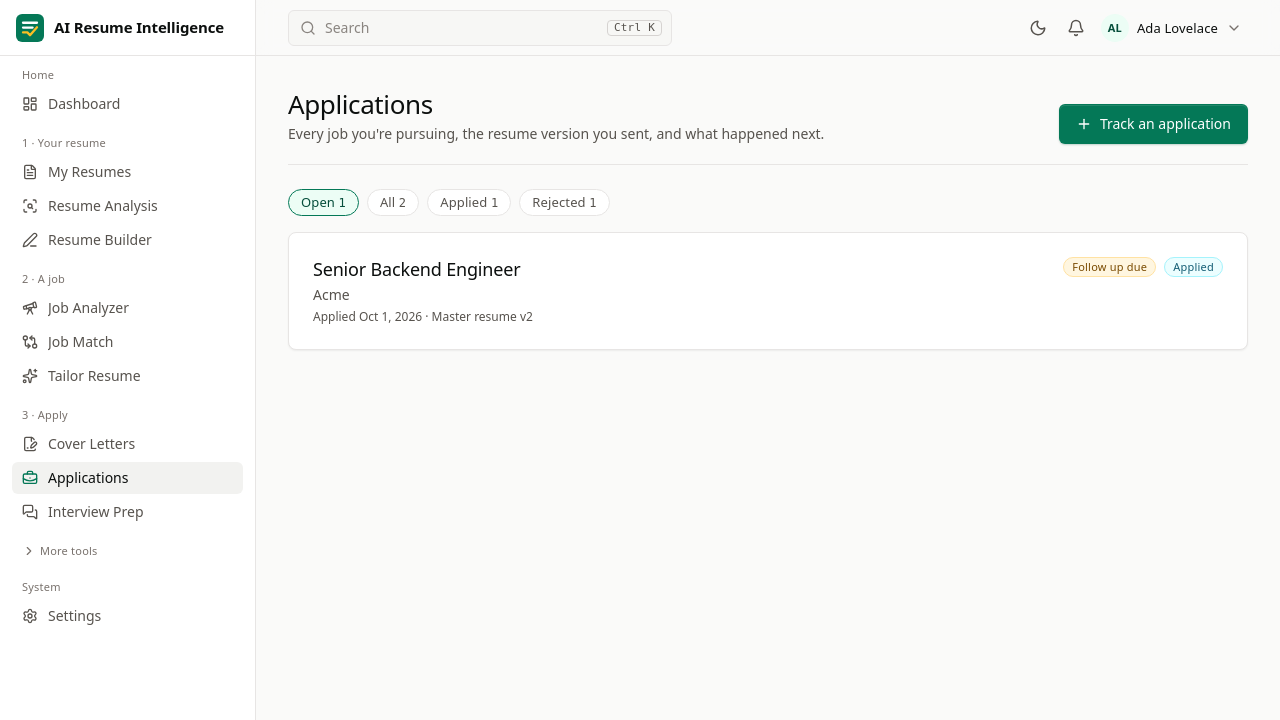
Test: Applications › lists open applications by default and filters by status
This screenshot has width=1280, height=720.
Expected: the text "Follow up due" is shown, top-left (1063, 257), bottom-right (1156, 277)
Expected: the text "Globex" is not shown
Click the button "Rejected 1" at (564, 202), box top-left (519, 189), bottom-right (610, 216)
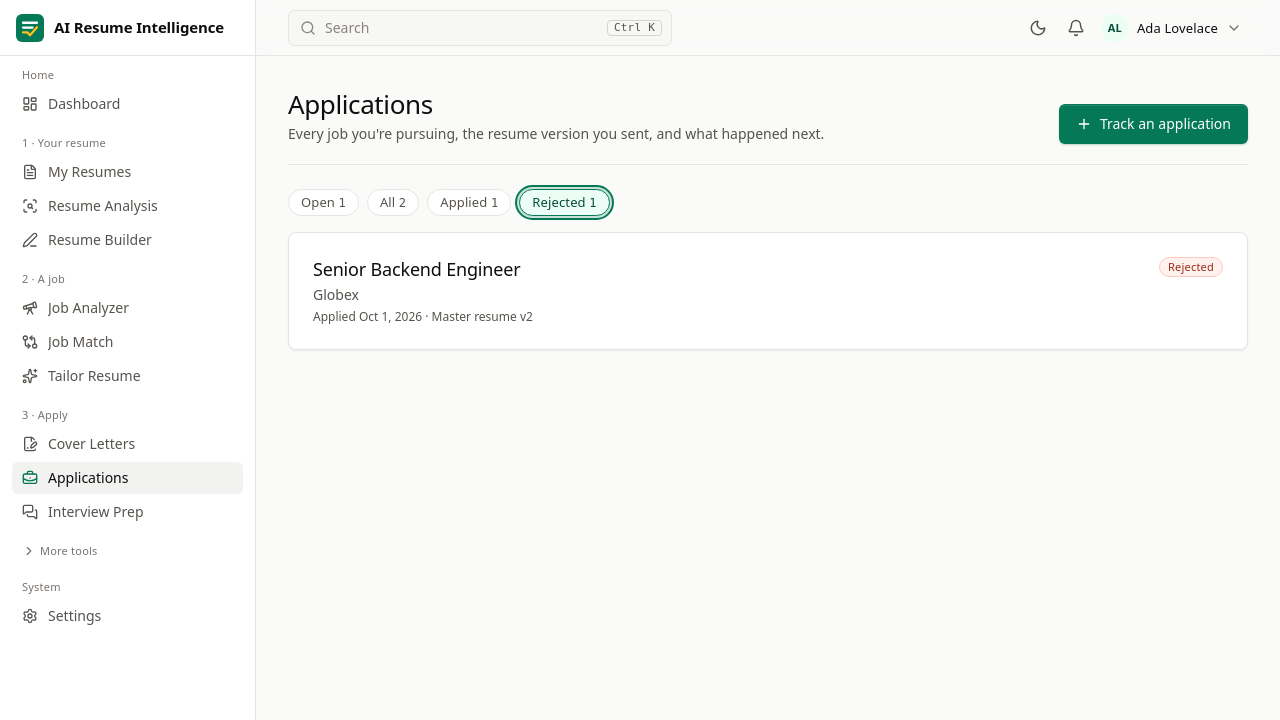
Expected: the text "Globex" is shown, top-left (313, 285), bottom-right (359, 304)
Expected: the text "Acme" is gone
